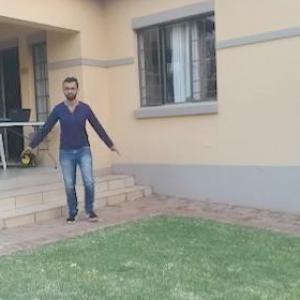land: (34, 81, 126, 230)
